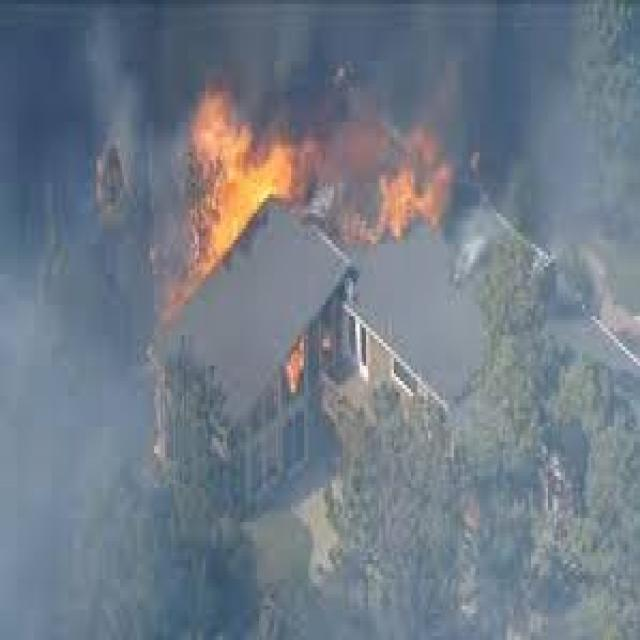Fire: (293, 137, 455, 248), (191, 101, 296, 247), (170, 236, 215, 305), (279, 346, 309, 400)
Smoke: (0, 443, 640, 640), (0, 11, 160, 290), (465, 17, 638, 193), (307, 7, 483, 124)
